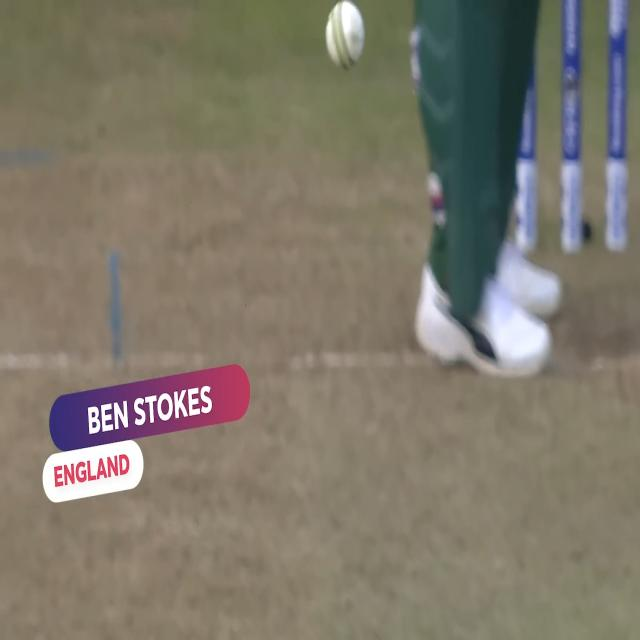ball: (316, 0, 374, 69)
